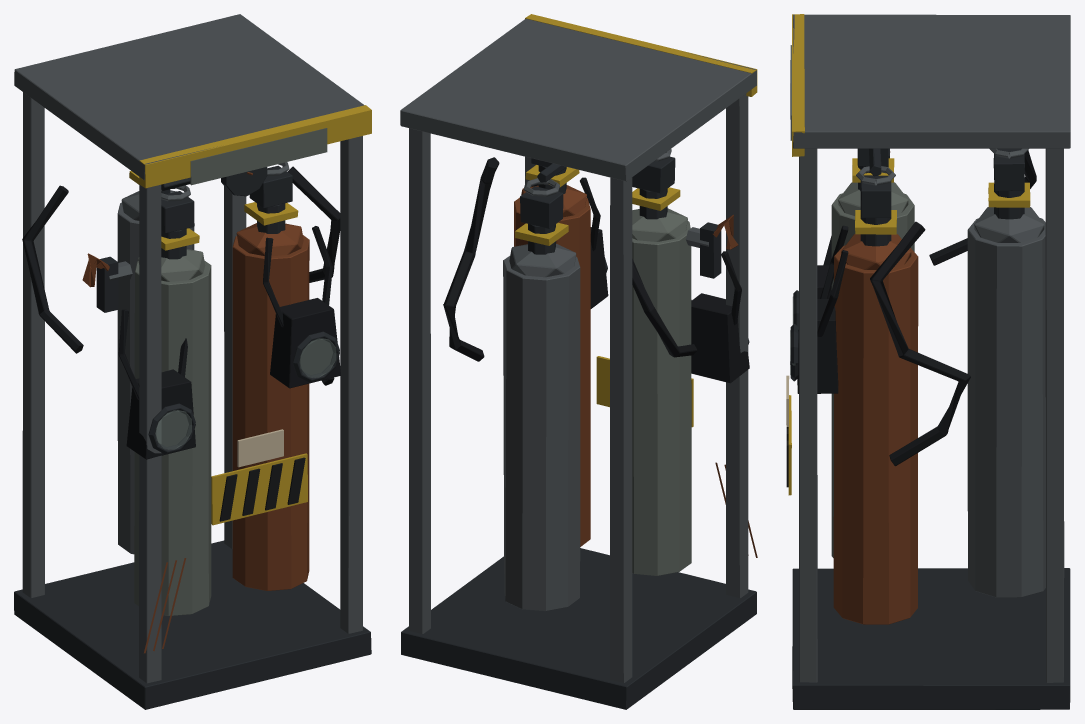
The model's file is airlock_oxygen.glb.
3 views of the same model, side by side, from view 1: azimuth 30°, elevation 25°; view 2: azimuth 150°, elevation 25°; view 3: azimuth 270°, elevation 25° (orthographic). The views are drawn at different scales.
Parts seen in each view (by area): view 1: airlock_oxygen; view 2: airlock_oxygen; view 3: airlock_oxygen.
Boxes of the visible parts, <box> form: airlock_oxygen: <box>14,14,371,709</box>; airlock_oxygen: <box>400,14,757,709</box>; airlock_oxygen: <box>786,14,1070,709</box>.
Size of the model in its own units: 0.5725 by 1.15 by 0.5124.
